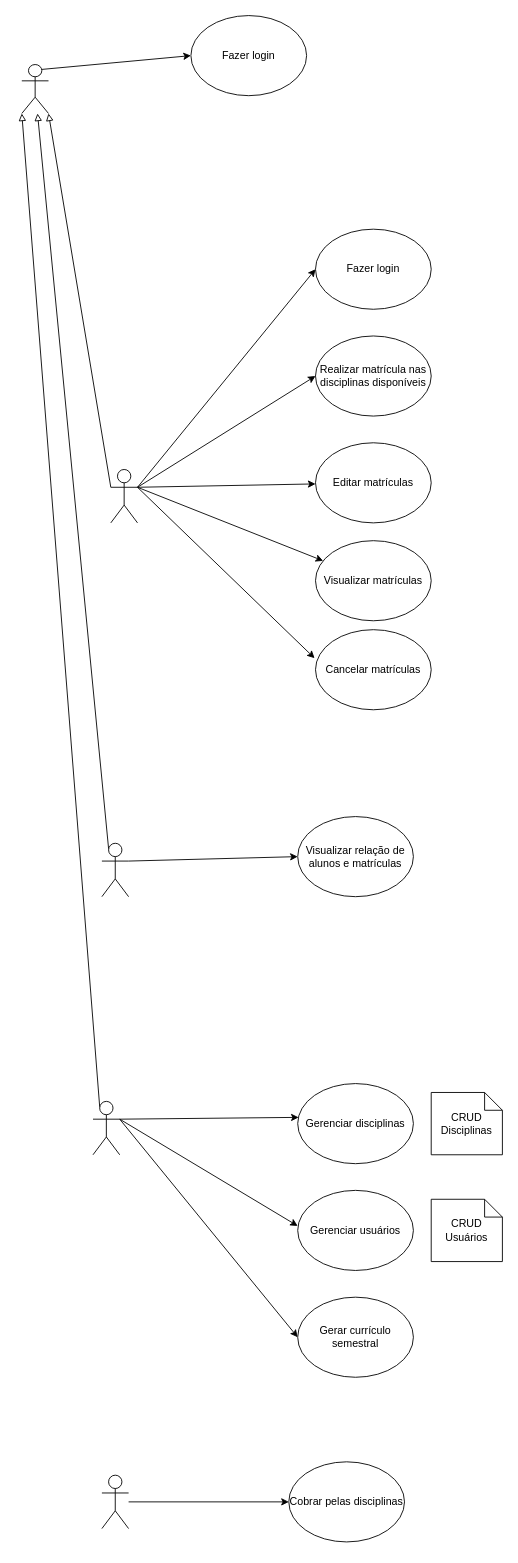
This 518x1563 diagram has some shape labels left out. Here are the shapes that lost their labels. From the top down, the centre of each, then its label:
the point at 35,88: Usuario
the point at 124,496: Aluno
the point at 115,869: Professor
the point at 106,1127: Secretaria
the point at 115,1501: Sistema de Cobrança
